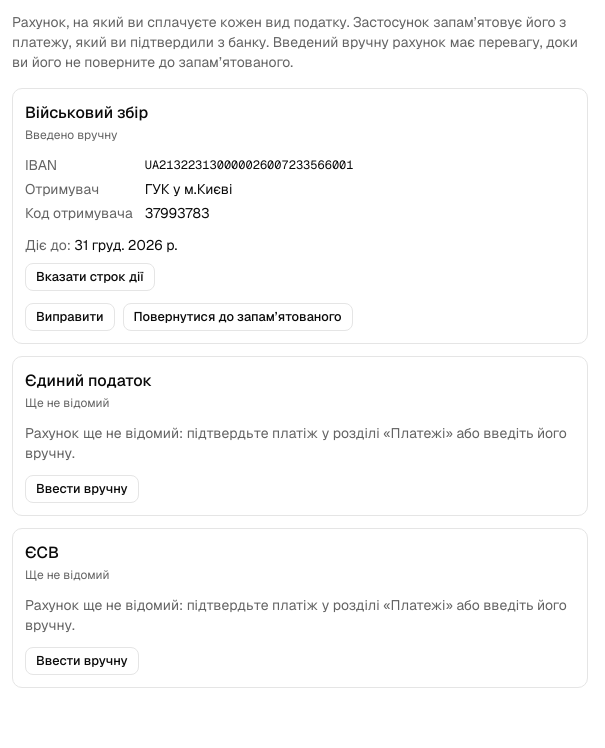
Scenario: TreasuryAccountsSection editor › words a rejected IBAN and recipient by their codes under the right field
The image size is (605, 748).
Click the button "Виправити" at coordinates (70, 317), box [25,303,114,331]
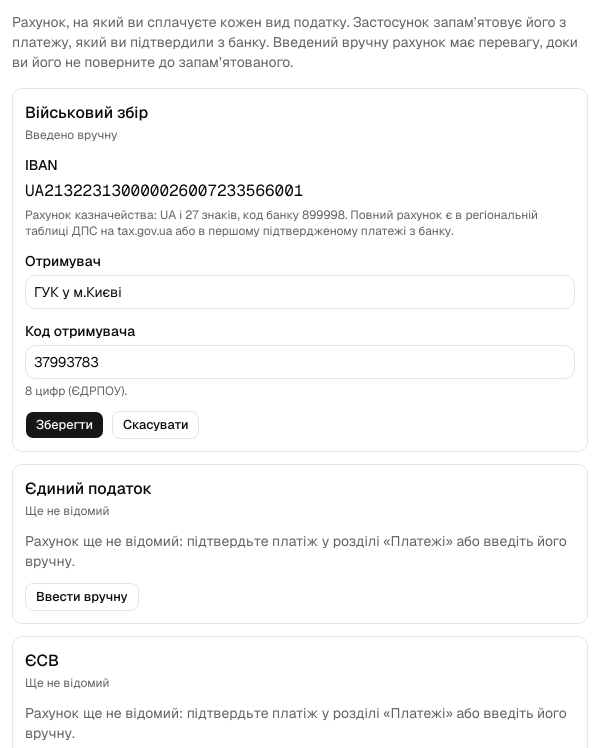
Click the button "Зберегти" at coordinates (64, 425), box [25,411,104,439]
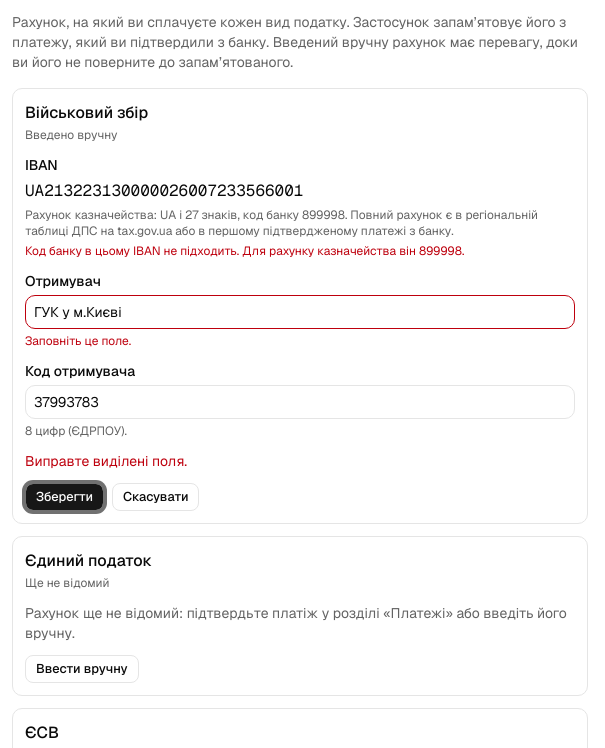
Result: the text "Код банку в цьому IBAN не підходить. Для рахунку казначейства він 899998." is shown at [25,243,464,259]
Result: the text "Заповніть це поле." is shown at [25,333,131,349]
